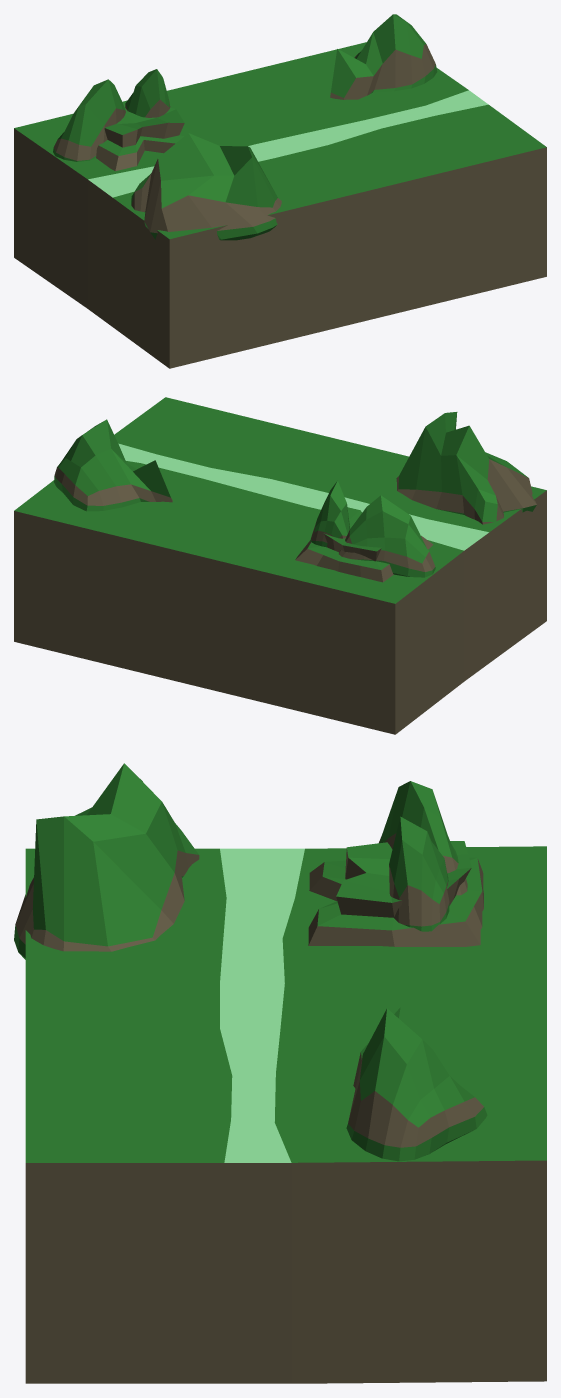
File: ground-1.fbx
3 renders of one model, top to bottom at view 1: azimuth 30°, elevation 25°; view 2: azimuth 150°, elevation 25°; view 3: azimuth 270°, elevation 25°, orthographic. The views are drawn at different scales.
Parts seen in each view (by area): view 1: Plane.001, Cube.006, Cube.007; view 2: Plane.001, Cube.006, Cube.007; view 3: Plane.001, Cube.006, Cube.007.
Boxes of the visible parts, x1=… form: Plane.001: x1=14, y1=42, x2=546, y2=368; Cube.006: x1=53, y1=14, x2=437, y2=240; Cube.007: x1=96, y1=102, x2=194, y2=171; Plane.001: x1=14, y1=397, x2=546, y2=734; Cube.006: x1=54, y1=412, x2=536, y2=577; Cube.007: x1=295, y1=507, x2=433, y2=582; Plane.001: x1=25, y1=846, x2=546, y2=1383; Cube.006: x1=14, y1=763, x2=487, y2=1161; Cube.007: x1=308, y1=841, x2=483, y2=946.
Size of the model in its own units: 2219 by 1127 by 1572.
